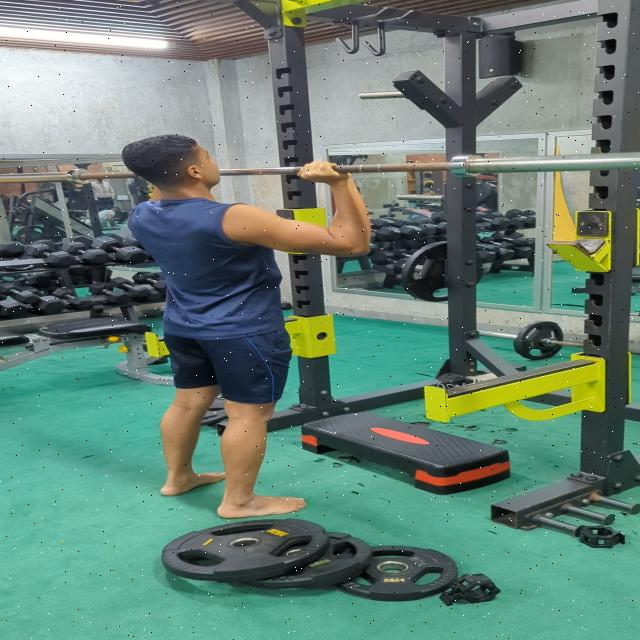Normal_OverheadPress: (104, 118, 379, 525)
